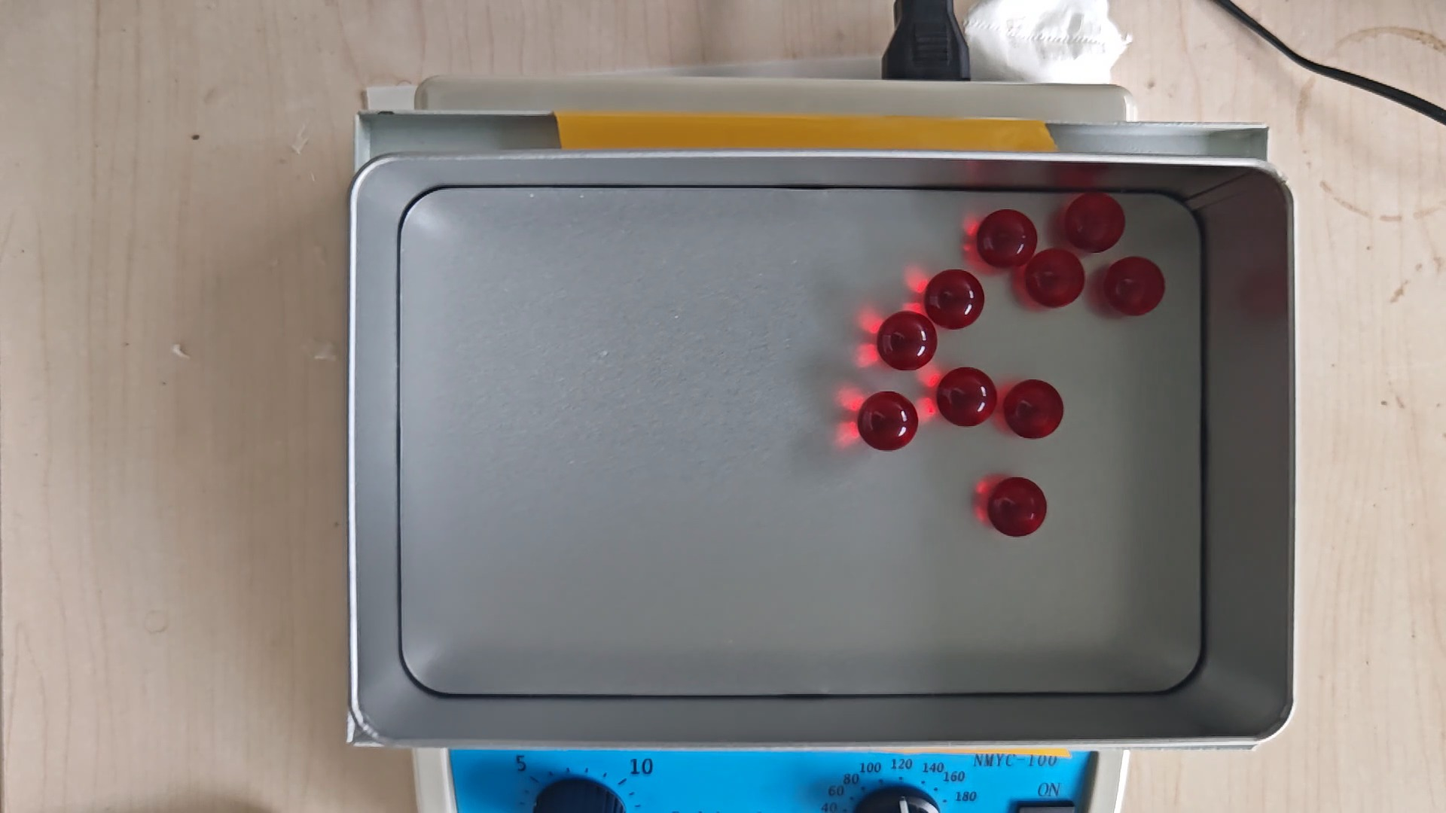ball: (858, 390, 919, 452), (1004, 379, 1065, 440), (877, 310, 937, 372), (988, 475, 1047, 538), (937, 367, 997, 428), (1105, 257, 1166, 316), (926, 269, 985, 330), (1026, 248, 1085, 308), (978, 208, 1036, 269), (1065, 193, 1124, 252)
container: (398, 187, 1203, 696)
